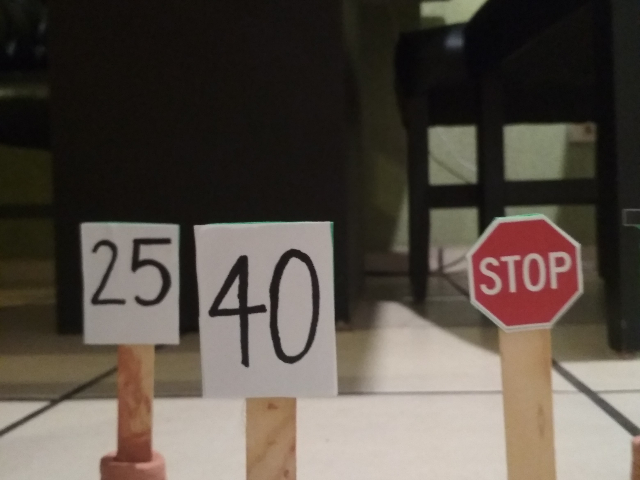Speed Limit 25: (79, 219, 181, 347)
Speed Limit 40: (192, 219, 336, 401)
Stop Sign: (464, 211, 585, 332)
